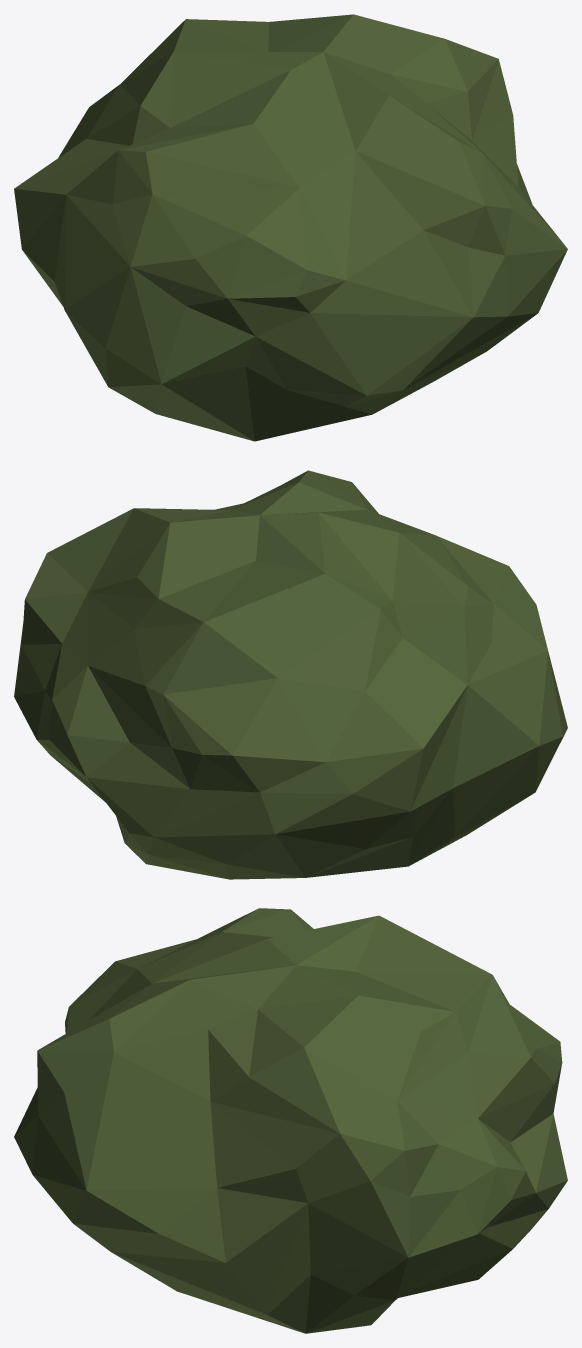
The model's file is SM_Env_Bush_04.fbx.
3 renders of one model, top to bottom at view 1: azimuth 30°, elevation 25°; view 2: azimuth 150°, elevation 25°; view 3: azimuth 270°, elevation 25°, orthographic. The views are drawn at different scales.
Visible parts, largest first — view 1: SM_Env_Bush_04; view 2: SM_Env_Bush_04; view 3: SM_Env_Bush_04.
Part boxes in pixels (x1,y1,x2,y2): SM_Env_Bush_04: (14,14,567,441); SM_Env_Bush_04: (14,470,567,879); SM_Env_Bush_04: (14,908,567,1333).
Size of the model in its own units: 149 by 90.4 by 149.
